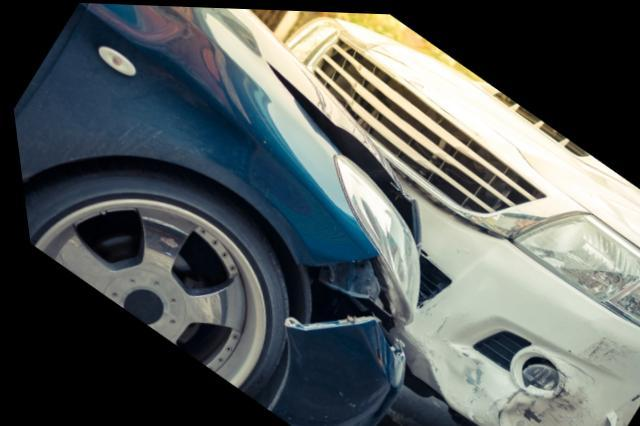dent: (426, 344, 570, 426)
dislocated part: (255, 256, 399, 426)
scratch: (570, 332, 627, 363)
